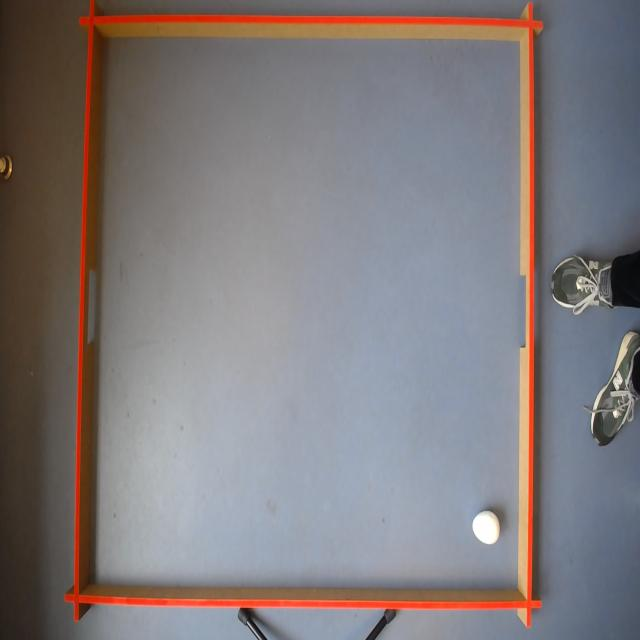corner: (516, 0, 544, 50), (516, 581, 543, 627), (64, 575, 88, 620), (78, 0, 103, 40)
